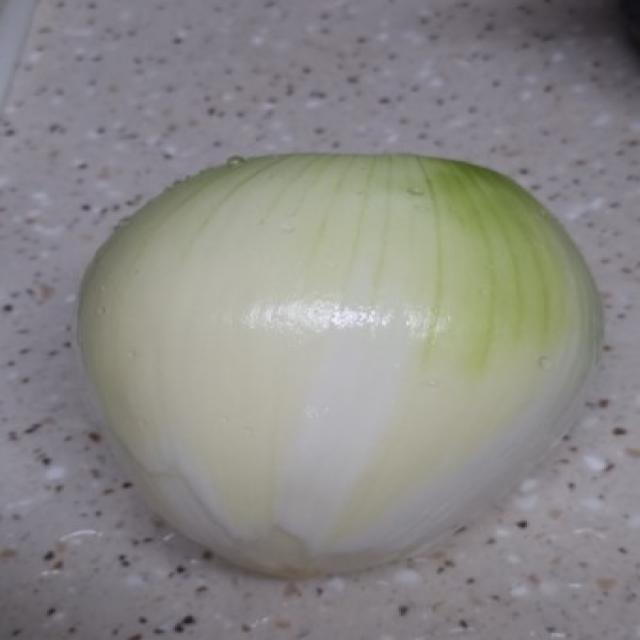onion: (63, 132, 631, 590)
